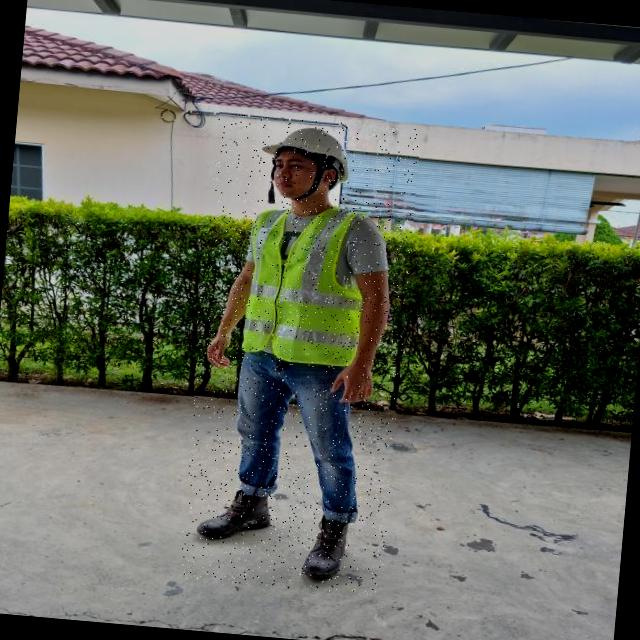boots: (192, 485, 278, 547), (298, 512, 351, 584)
helmet: (258, 122, 354, 185)
no-gloves: (317, 336, 415, 424), (188, 302, 255, 386)
vest: (237, 198, 377, 372)
